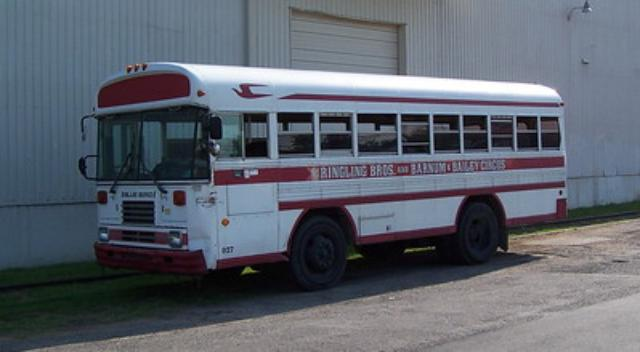bus: (77, 61, 568, 292)
